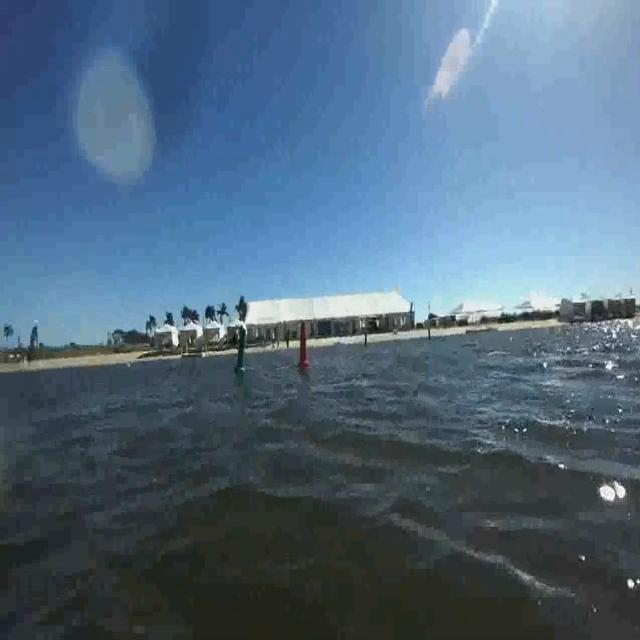green-column-buoy: (234, 322, 250, 373)
red-column-buoy: (295, 322, 310, 369)
